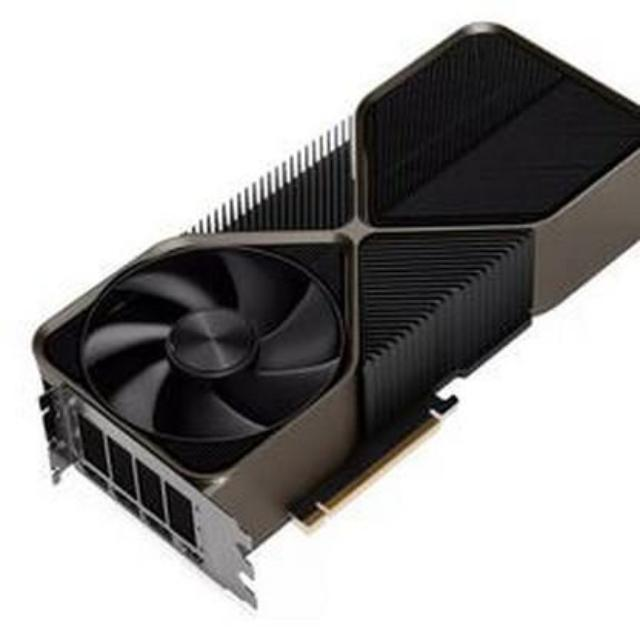GPU: (38, 2, 640, 584)
